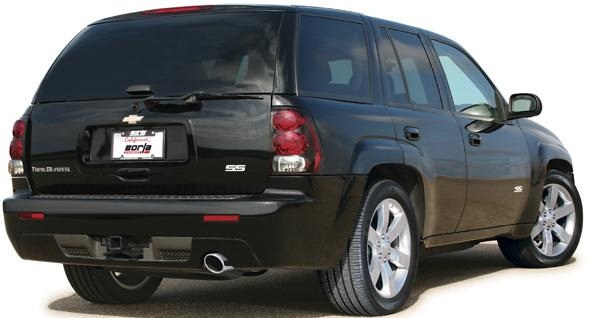back_view: (1, 96, 319, 268)
backlight: (266, 107, 329, 180)
side_glass: (372, 24, 501, 113)
